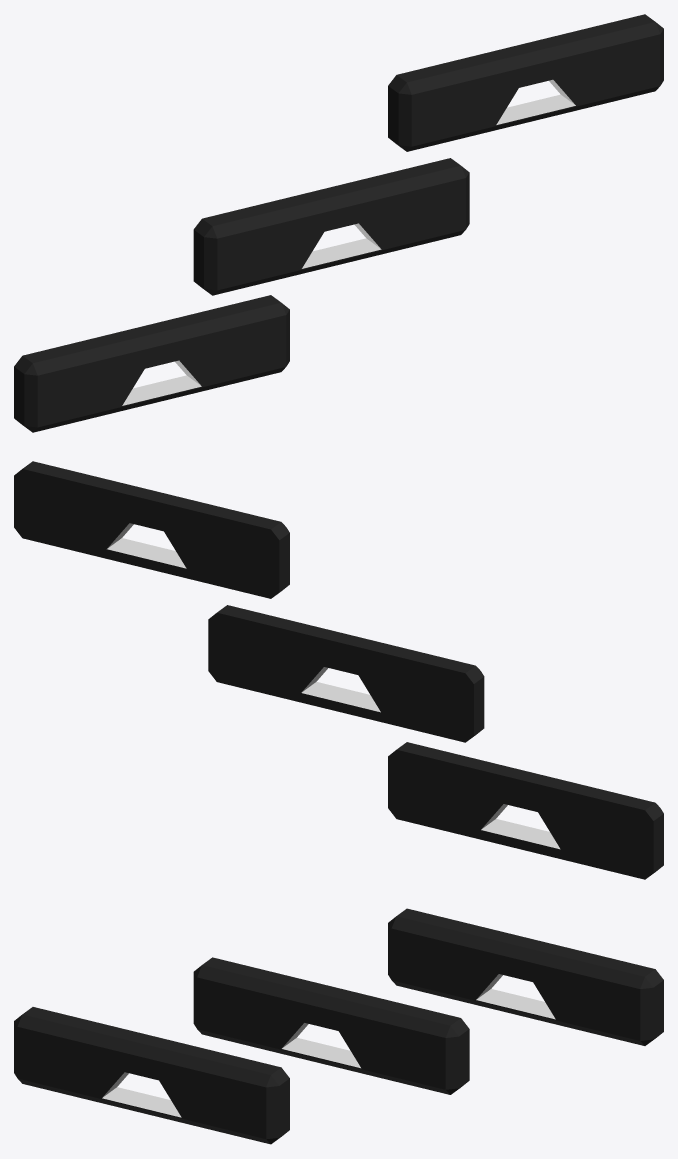
The model's file is Wall-Decoration-1.fbx.
3 renders of one model, top to bottom at view 1: azimuth 30°, elevation 25°; view 2: azimuth 150°, elevation 25°; view 3: azimuth 330°, elevation 25°, orthographic.
Parts seen in each view (by area): view 1: Wall-Decoration-1, Wall-Decoration-3, Wall-Decoration-2; view 2: Wall-Decoration-1, Wall-Decoration-3, Wall-Decoration-2; view 3: Wall-Decoration-1, Wall-Decoration-3, Wall-Decoration-2.
Part boxes in pixels (left/top/right/bottom): Wall-Decoration-1: left=193, top=158, right=469, bottom=295; Wall-Decoration-3: left=388, top=14, right=663, bottom=151; Wall-Decoration-2: left=14, top=295, right=289, bottom=432; Wall-Decoration-1: left=208, top=605, right=484, bottom=742; Wall-Decoration-3: left=14, top=461, right=289, bottom=598; Wall-Decoration-2: left=388, top=742, right=663, bottom=879; Wall-Decoration-1: left=193, top=957, right=469, bottom=1094; Wall-Decoration-3: left=388, top=908, right=663, bottom=1045; Wall-Decoration-2: left=14, top=1007, right=289, bottom=1144.
Size of the model in its own units: 4.82 by 1.86 by 0.2.
